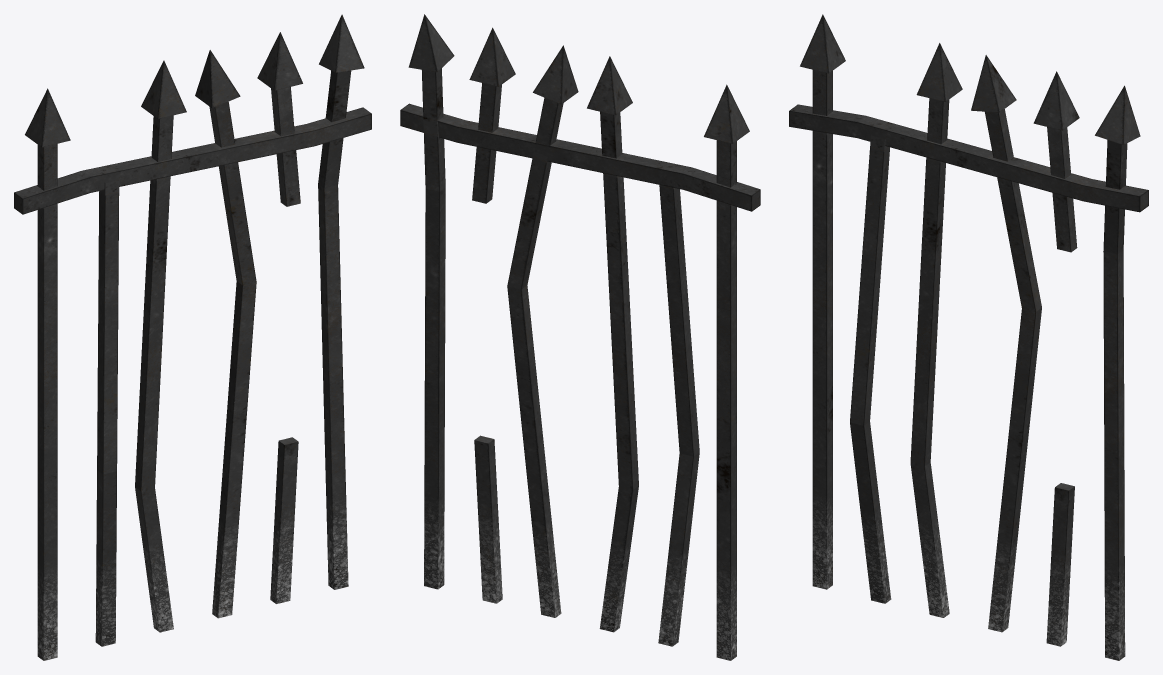
The model's file is Fence7.fbx.
3 renders of one model, left to right at view 1: azimuth 30°, elevation 25°; view 2: azimuth 150°, elevation 25°; view 3: azimuth 330°, elevation 25°, orthographic.
Visible parts, largest first — view 1: Cube.034; view 2: Cube.034; view 3: Cube.034.
Boxes of the visible parts, x1,y1,x2,y2 form: Cube.034: (14, 14, 371, 660); Cube.034: (400, 14, 760, 660); Cube.034: (789, 14, 1148, 660).
Size of the model in its own units: 600 by 934 by 67.97.
